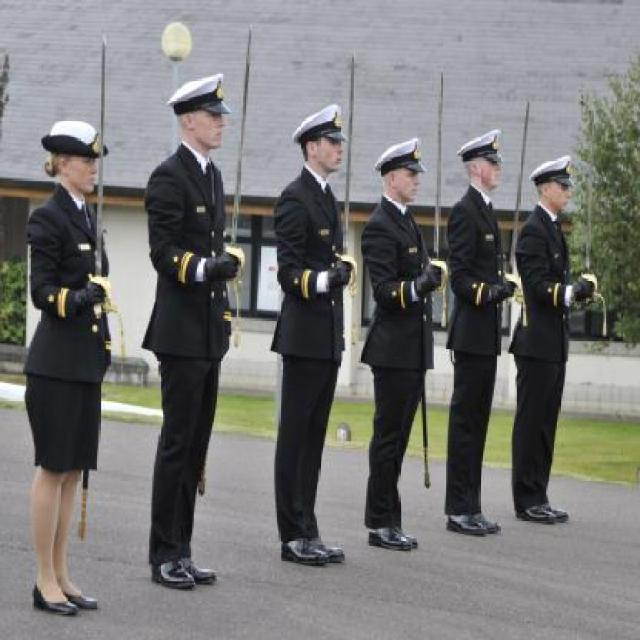Person: (141, 73, 245, 589), (21, 119, 113, 624), (269, 101, 357, 564), (358, 138, 448, 553), (511, 144, 595, 531), (448, 127, 517, 535)
